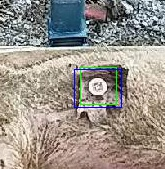text: (80, 67, 116, 104)
